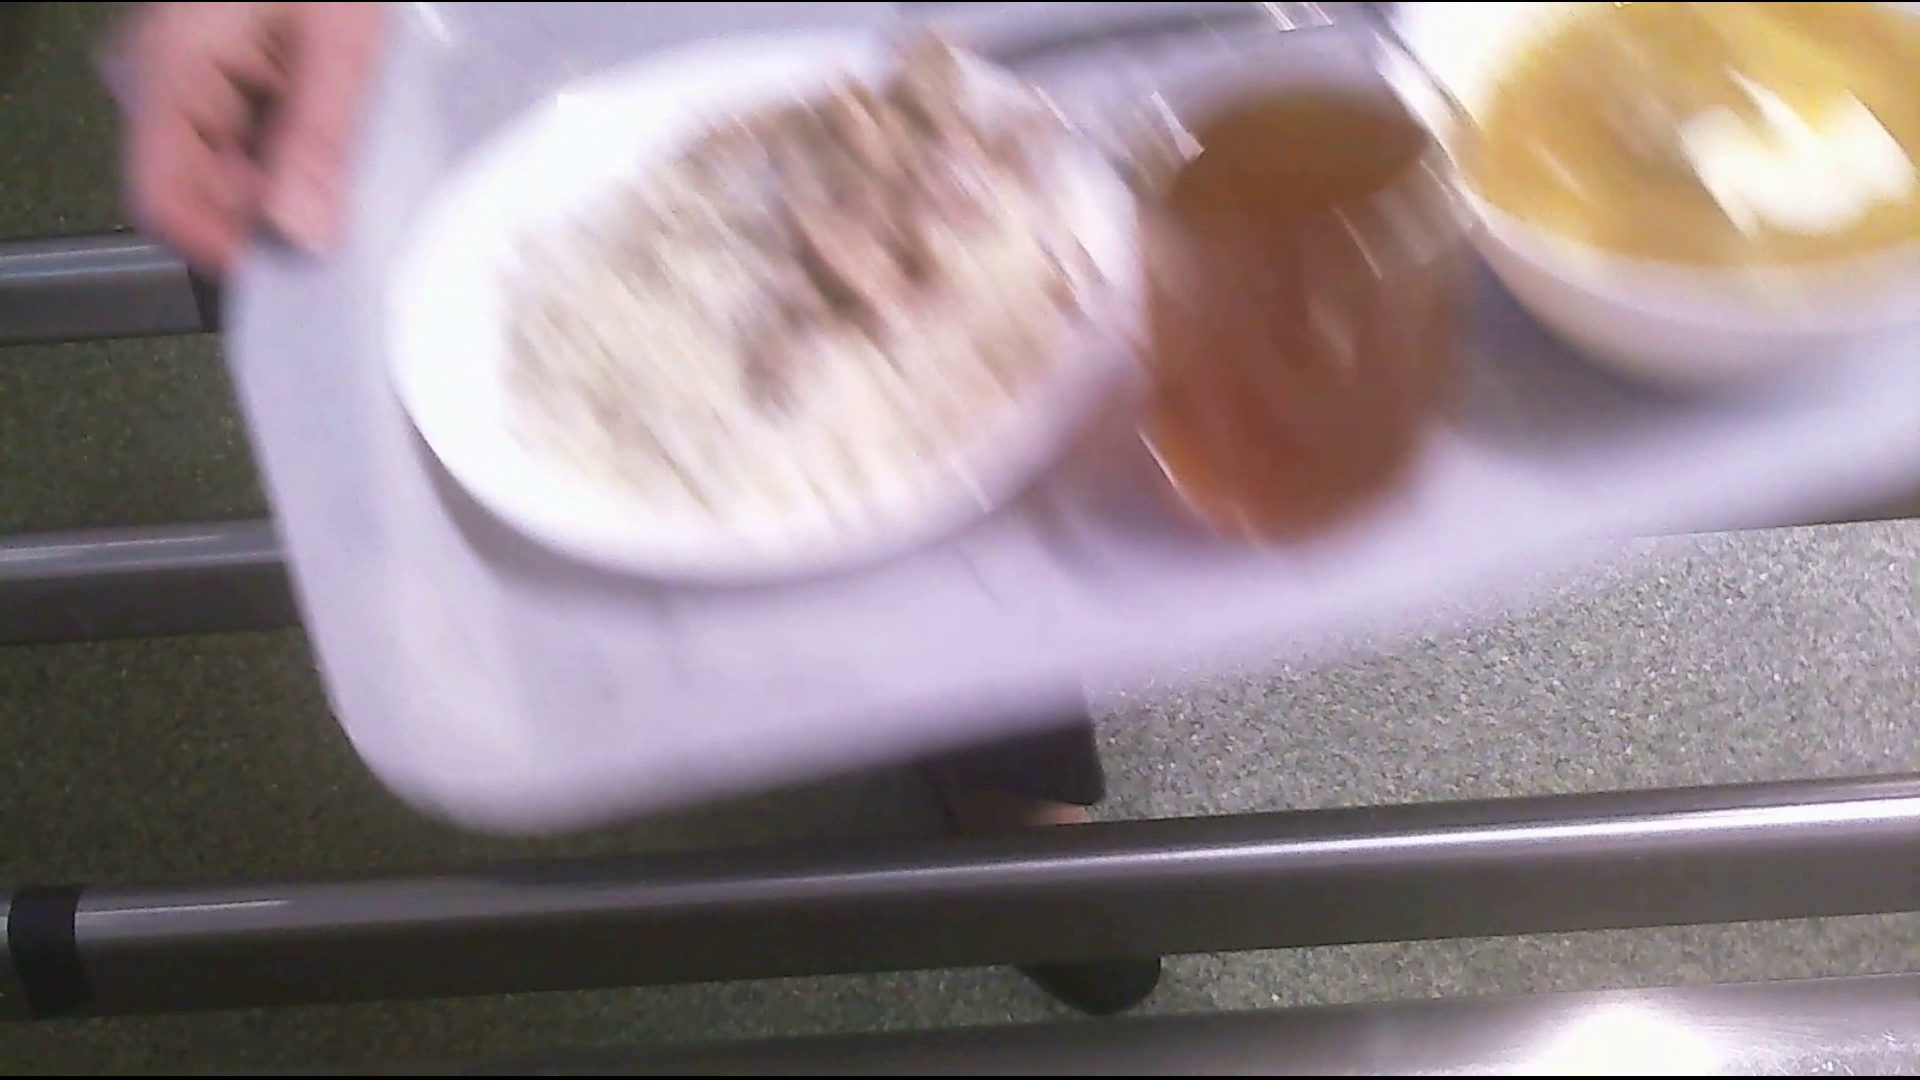bowl: (1396, 1, 1920, 396)
drink: (1139, 73, 1470, 566)
plate: (384, 32, 1145, 576)
